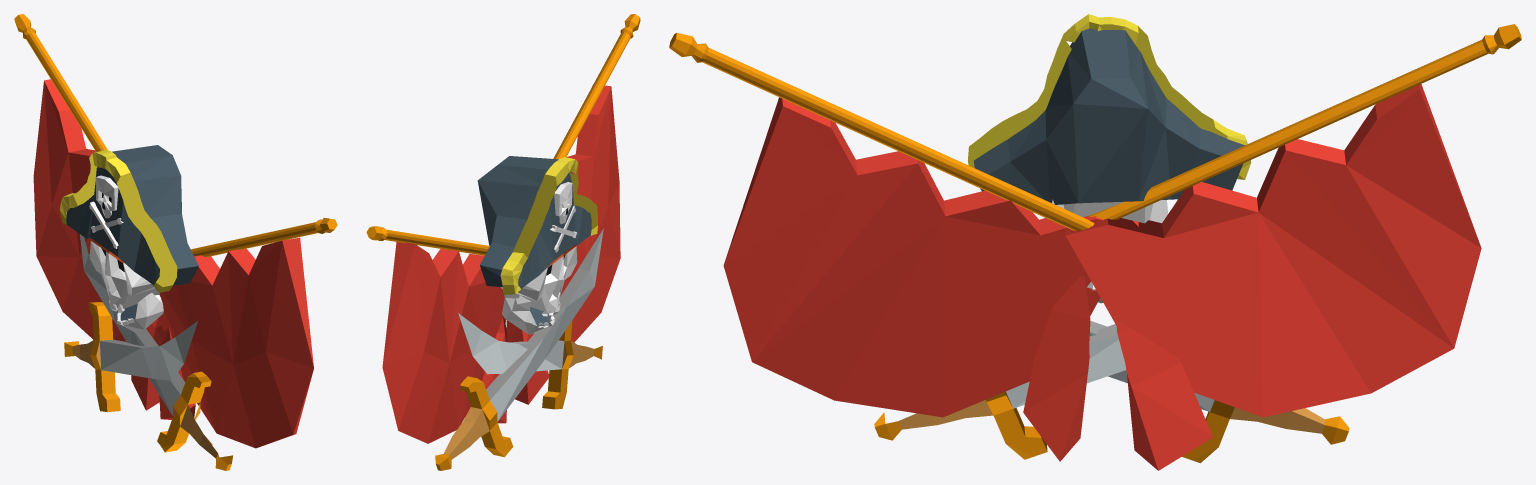
The model's file is chal_1.glb.
3 views of the same model, side by side, from view 1: azimuth 30°, elevation 25°; view 2: azimuth 150°, elevation 25°; view 3: azimuth 270°, elevation 25° (orthographic). The views are drawn at different scales.
Visible parts, largest first — view 1: Node; view 2: Node; view 3: Node.
Boxes of the visible parts, <box> form: Node: <box>14,14,337,470</box>; Node: <box>366,14,640,470</box>; Node: <box>669,14,1521,470</box>.
Bounding box in the file's own units: 0.2856 × 0.9796 × 1.66.
